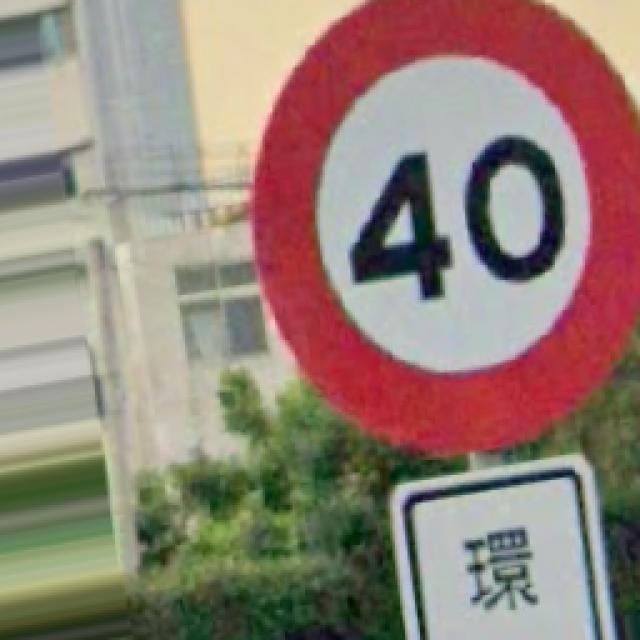Speed Limit -40-: (255, 0, 635, 452)
